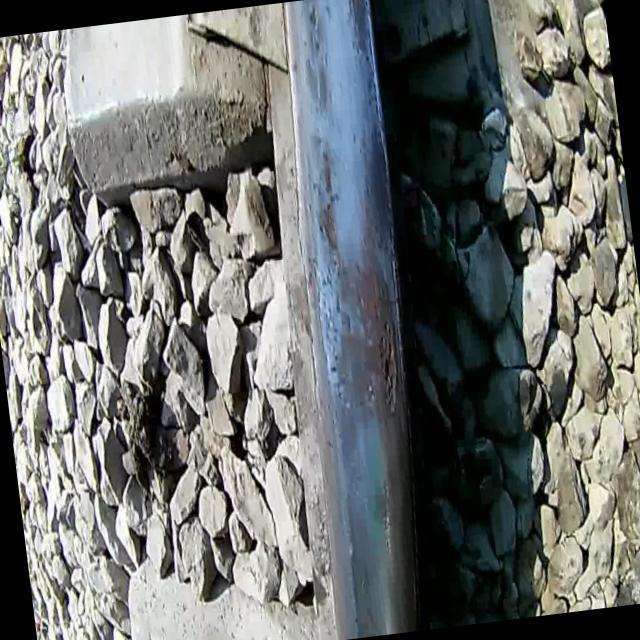Spallings: (368, 306, 408, 426), (310, 188, 346, 254)
Squats: (299, 138, 413, 470), (328, 460, 414, 638), (349, 112, 404, 258), (286, 0, 343, 125), (336, 0, 380, 73)
